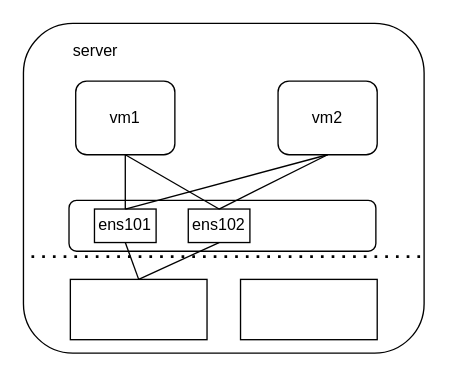
Image size: 449x377. Some labels were removed from this diagram. The centre of each missing label's shape, as x and y in pixels:
"mlx01" belongs at (x=138, y=309).
"mlx02" belongs at (x=308, y=309).
